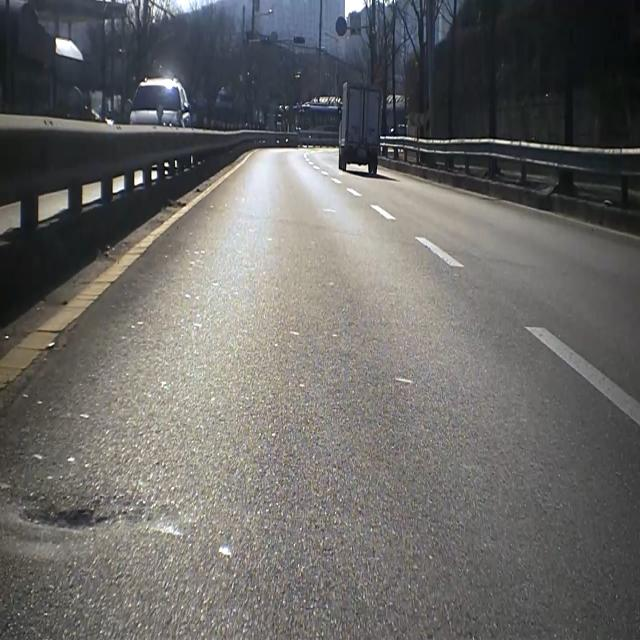Pothole: (11, 493, 124, 552)
